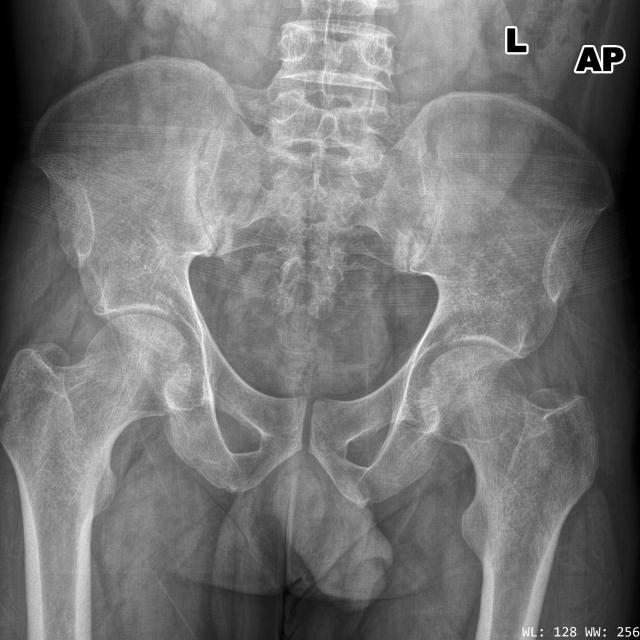normal-left: (419, 344, 596, 622)
normal-right: (0, 315, 192, 604)
